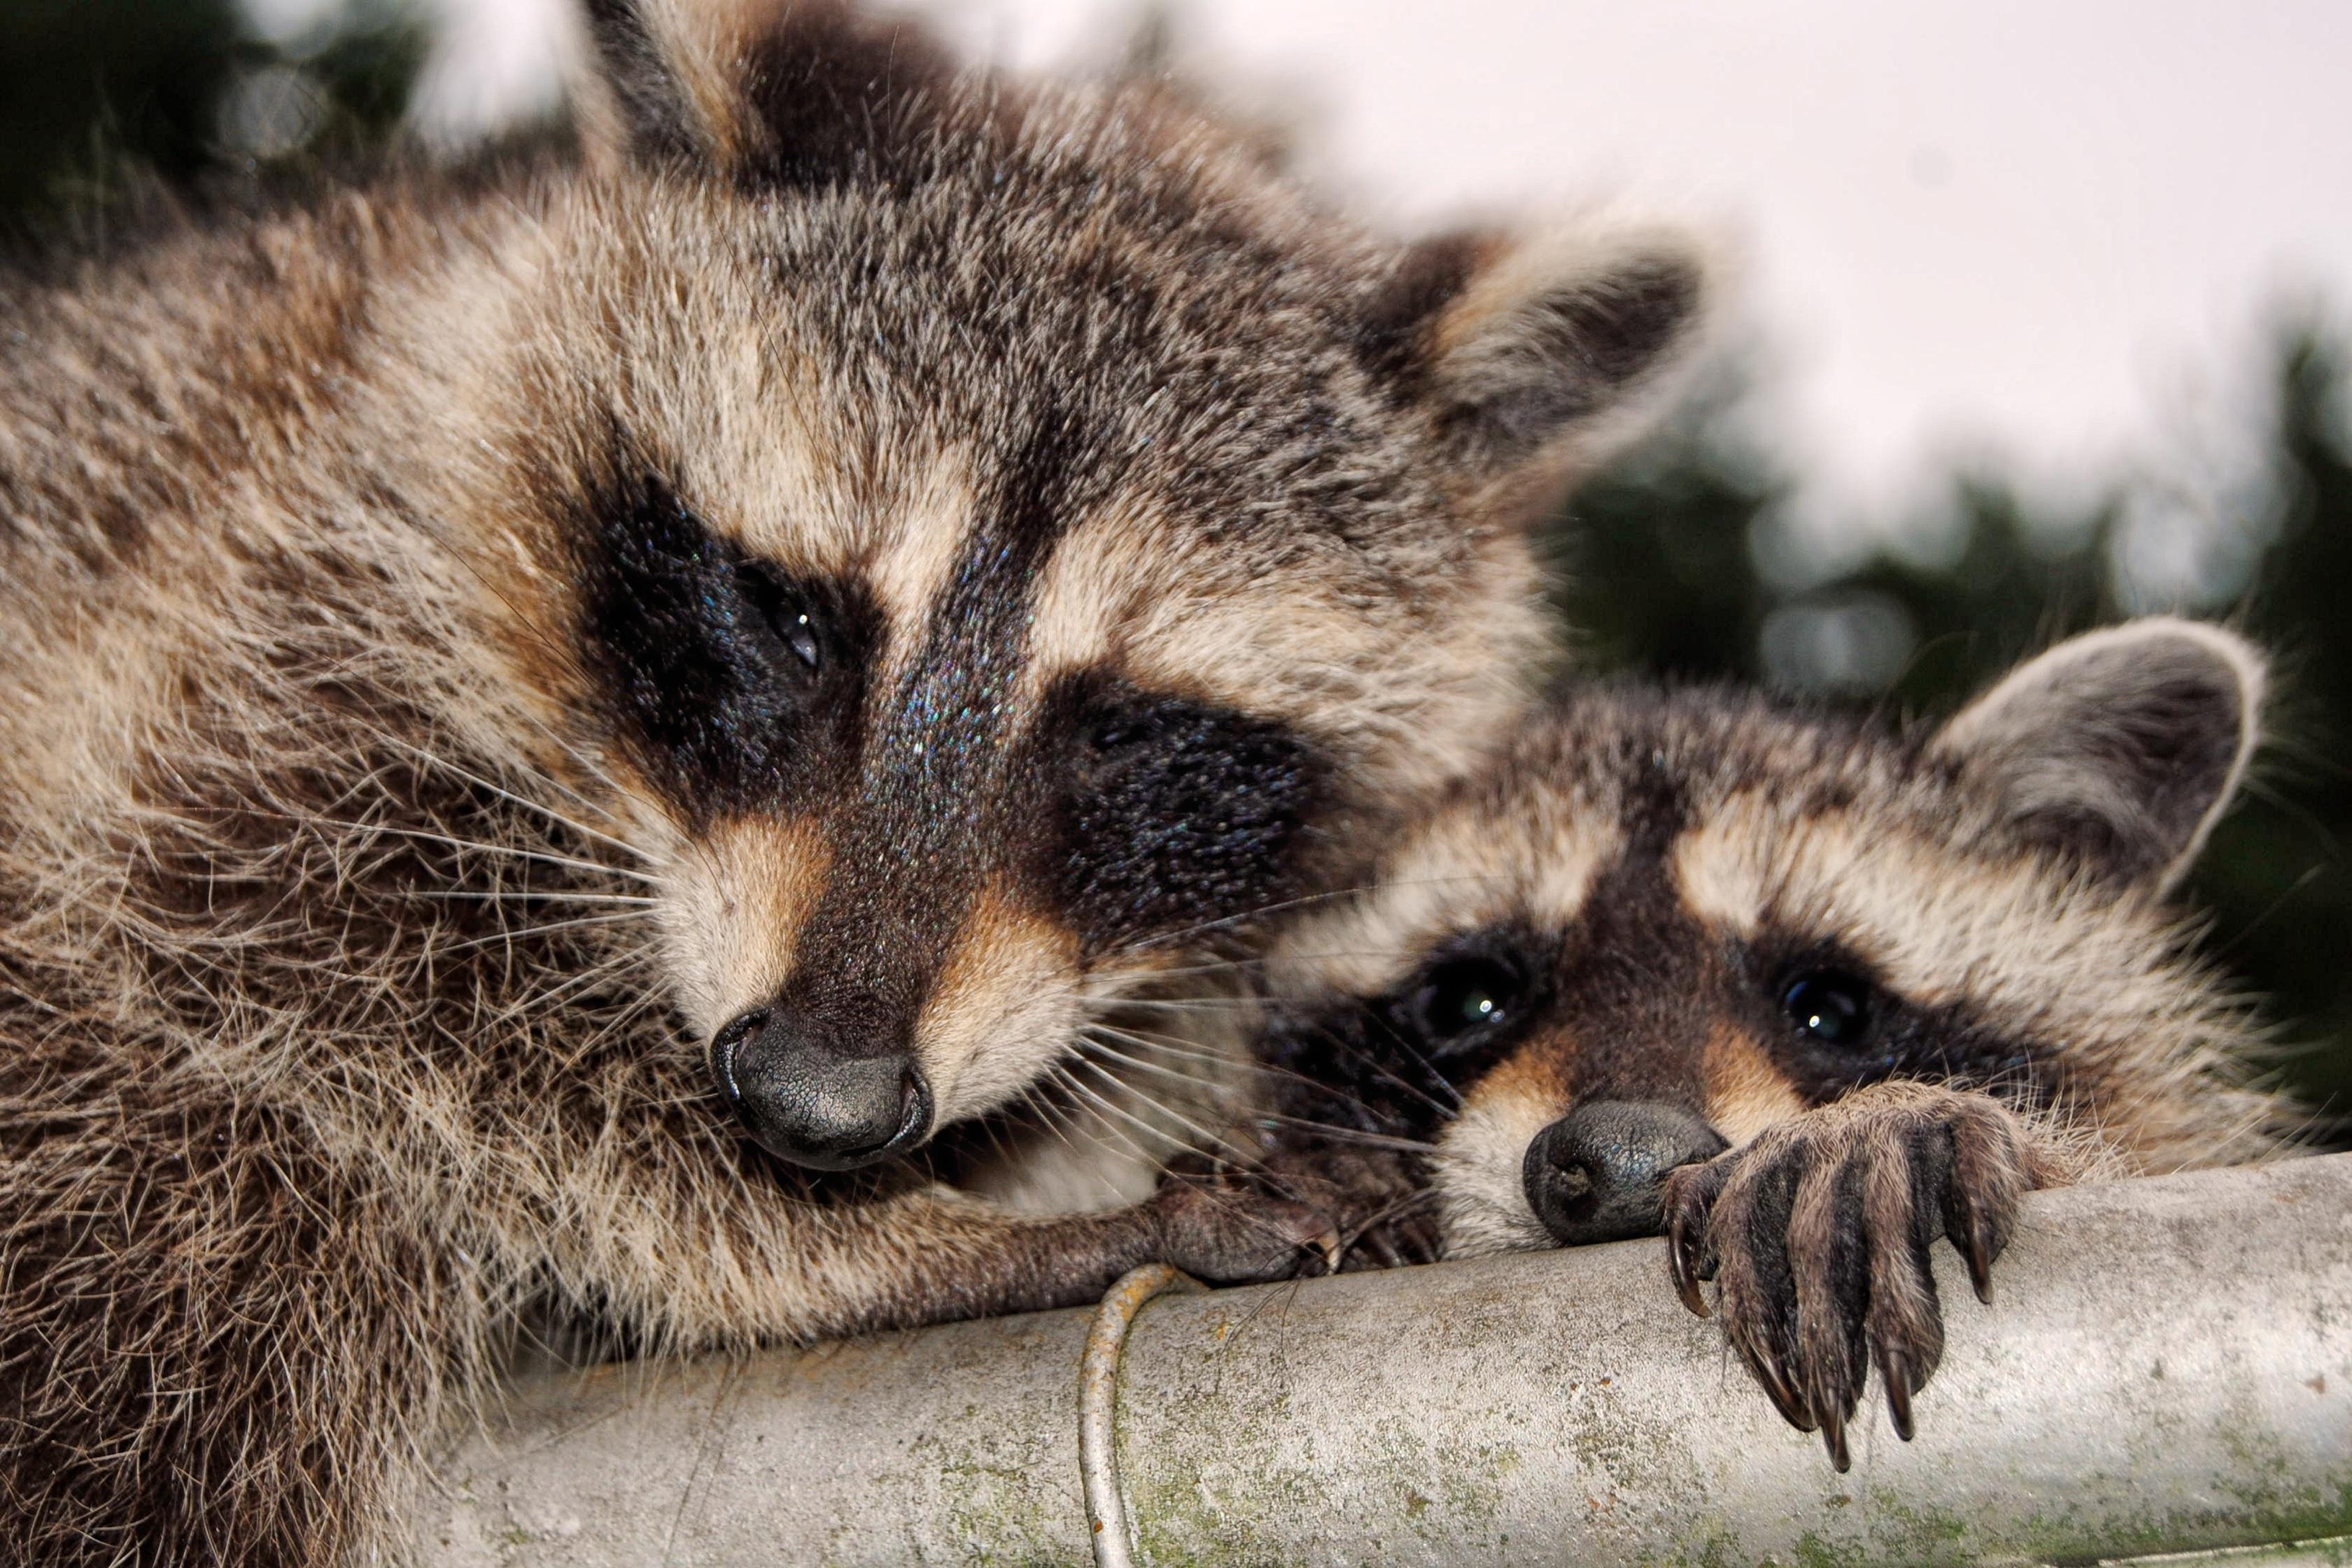raccoon: (0, 0, 1556, 1568), (1232, 606, 2349, 1482)
